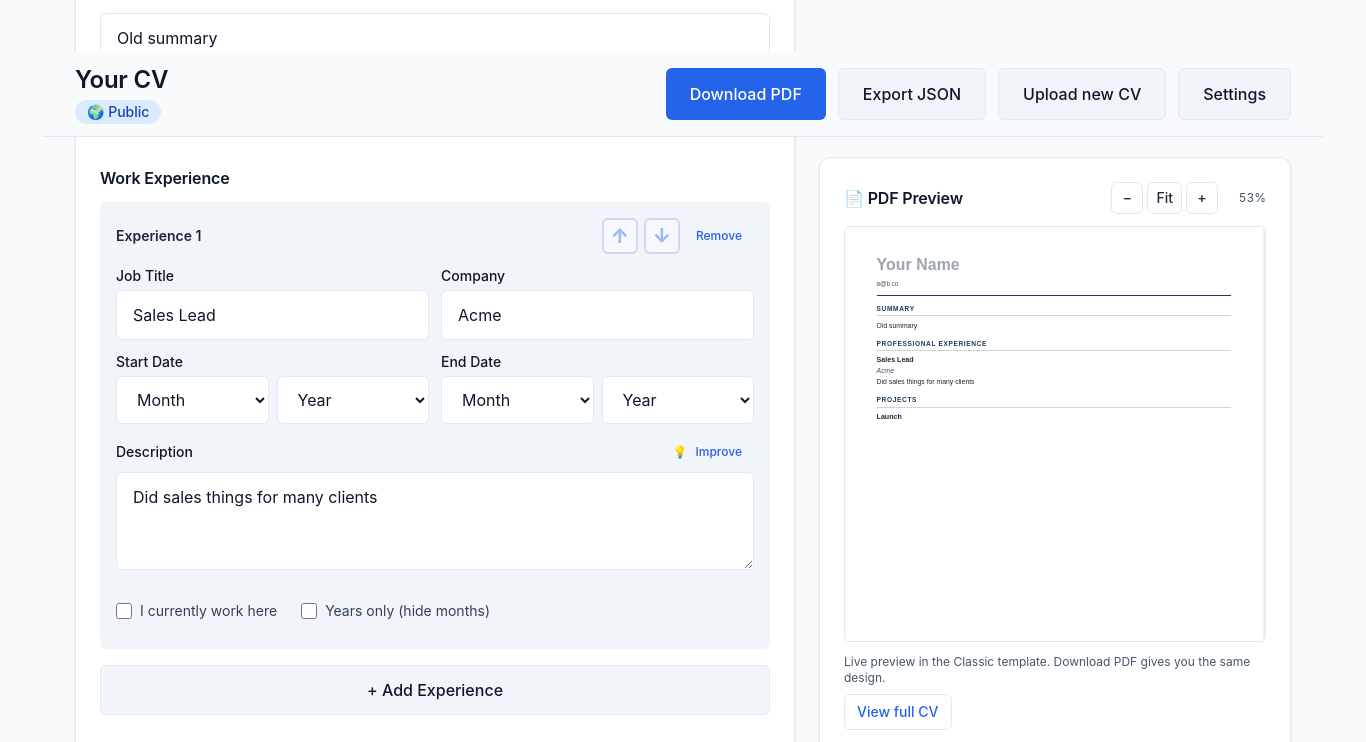
💡 field suggestions in StrictMode › sends one request per click
The image size is (1366, 742).
(page scrolled)
Click the button with aria-label "Improve Experience 1 Description": (707, 452) 660,436 -> 754,468
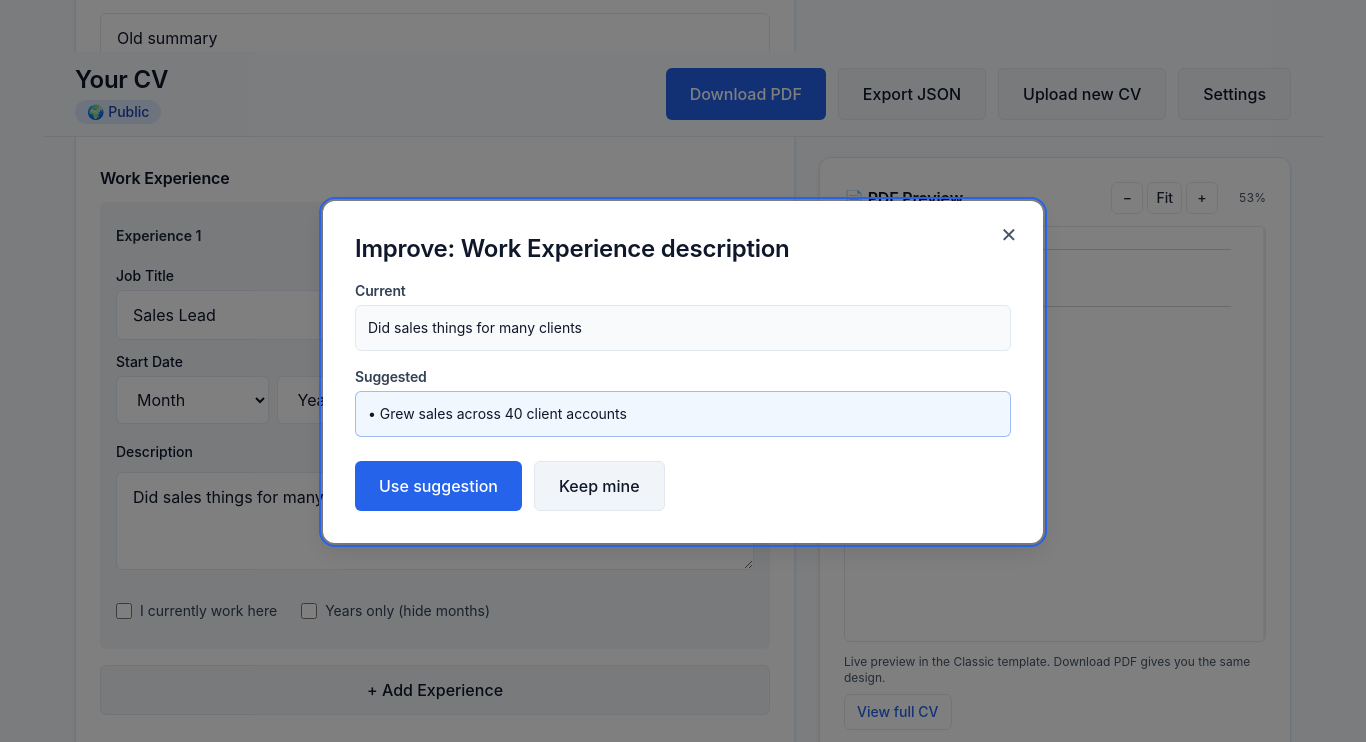
Check: the button "Use suggestion" is shown, box 355,461 -> 522,511
